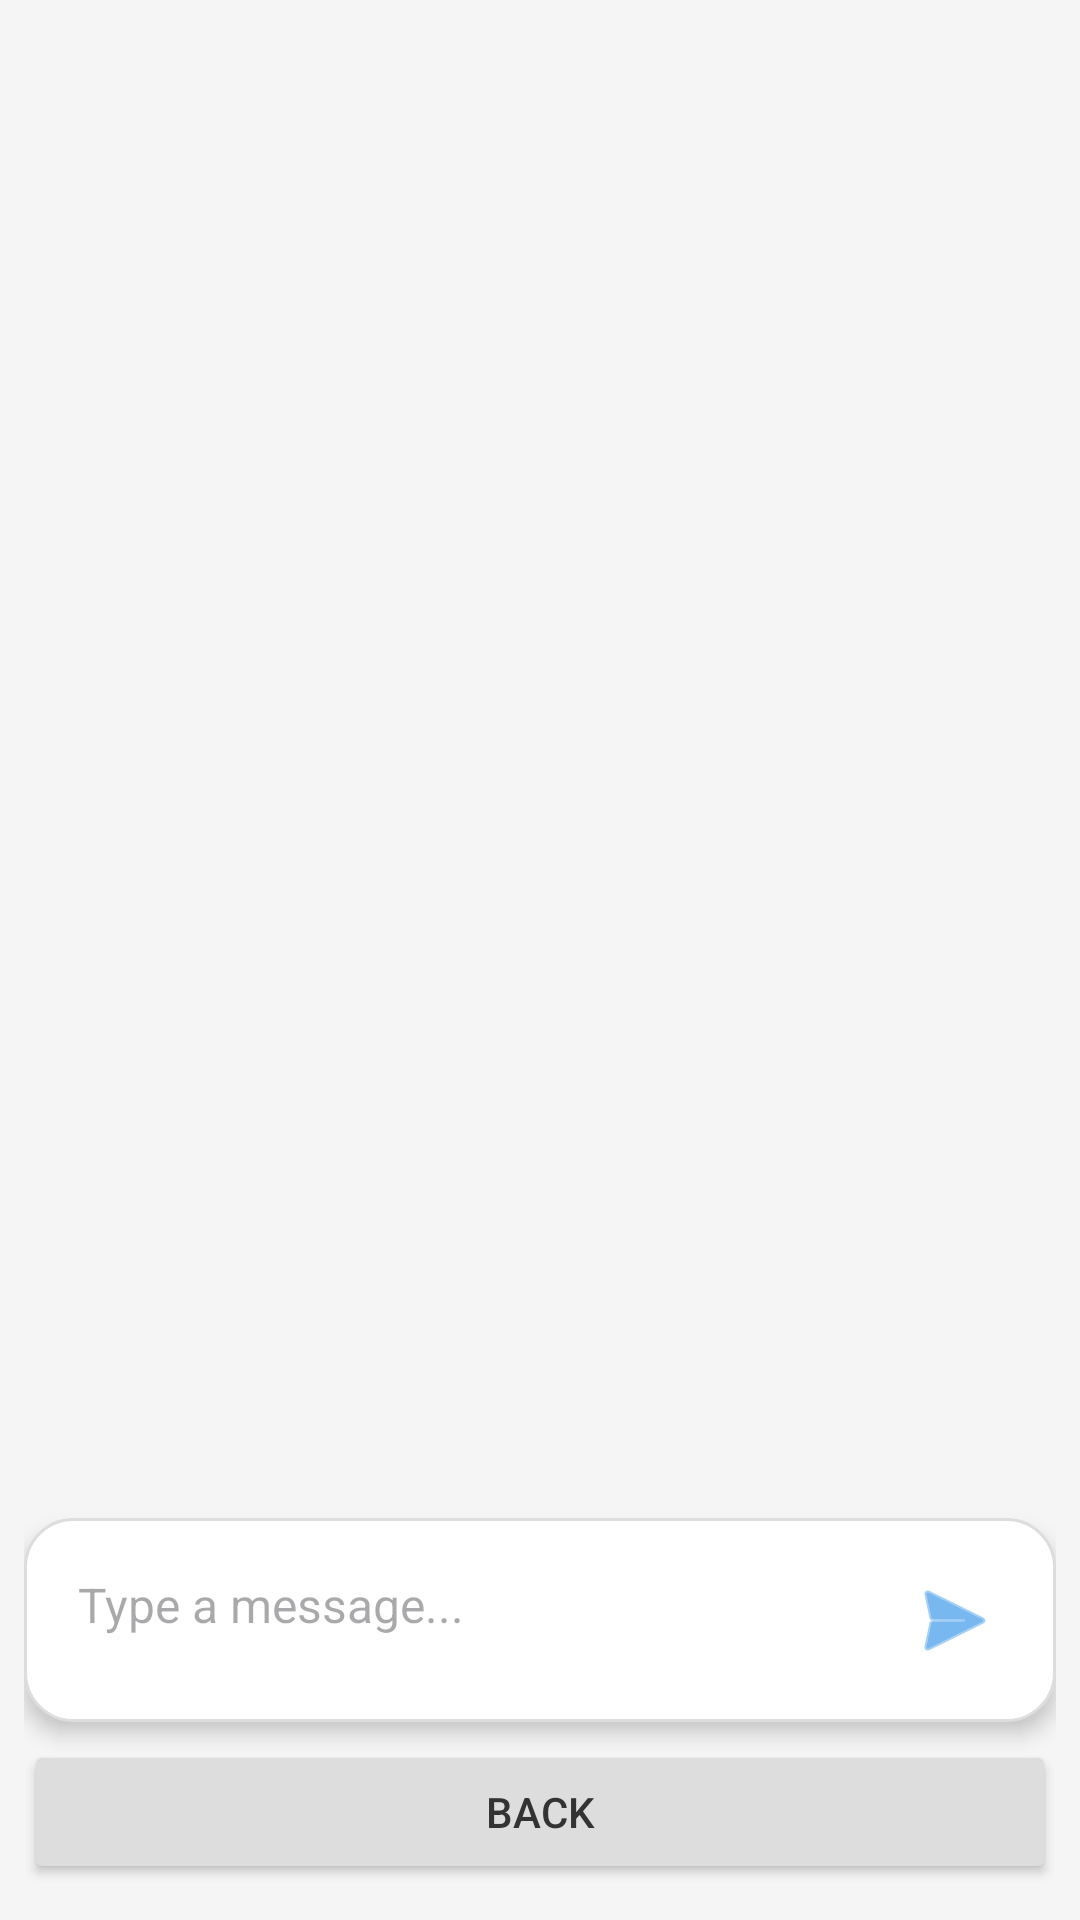

Named icons in this screenshot (1080 x 1920) and their bounding boxes, (x1, y1, x2, y2):
Send: (924, 1590, 986, 1651)
